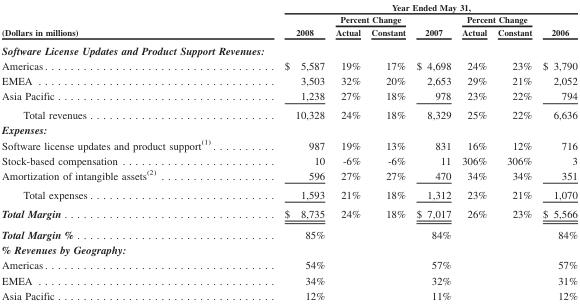table: (1, 1, 576, 301)
table column: (1, 1, 249, 301), (249, 1, 329, 301), (365, 1, 410, 301), (410, 1, 455, 301), (491, 1, 536, 301), (536, 1, 576, 301), (329, 1, 365, 301), (455, 1, 491, 301)
table column header: (1, 1, 576, 40)
table projected row header: (1, 40, 576, 57), (1, 241, 576, 257), (1, 121, 576, 136)
table row: (1, 203, 576, 223), (1, 184, 576, 203), (1, 166, 576, 184), (1, 223, 576, 241), (1, 40, 576, 57), (1, 88, 576, 105), (1, 72, 576, 88), (1, 105, 576, 121), (1, 136, 576, 152), (1, 241, 576, 257), (1, 25, 576, 40), (1, 57, 576, 72), (1, 121, 576, 136), (1, 257, 576, 272), (1, 272, 576, 287), (1, 152, 576, 166), (1, 287, 576, 301), (1, 12, 576, 25), (1, 1, 576, 12)
table spanning cell: (1, 1, 249, 40), (249, 1, 576, 12), (249, 12, 329, 40), (410, 12, 455, 40), (536, 12, 576, 40), (329, 12, 410, 25), (455, 12, 536, 25)
